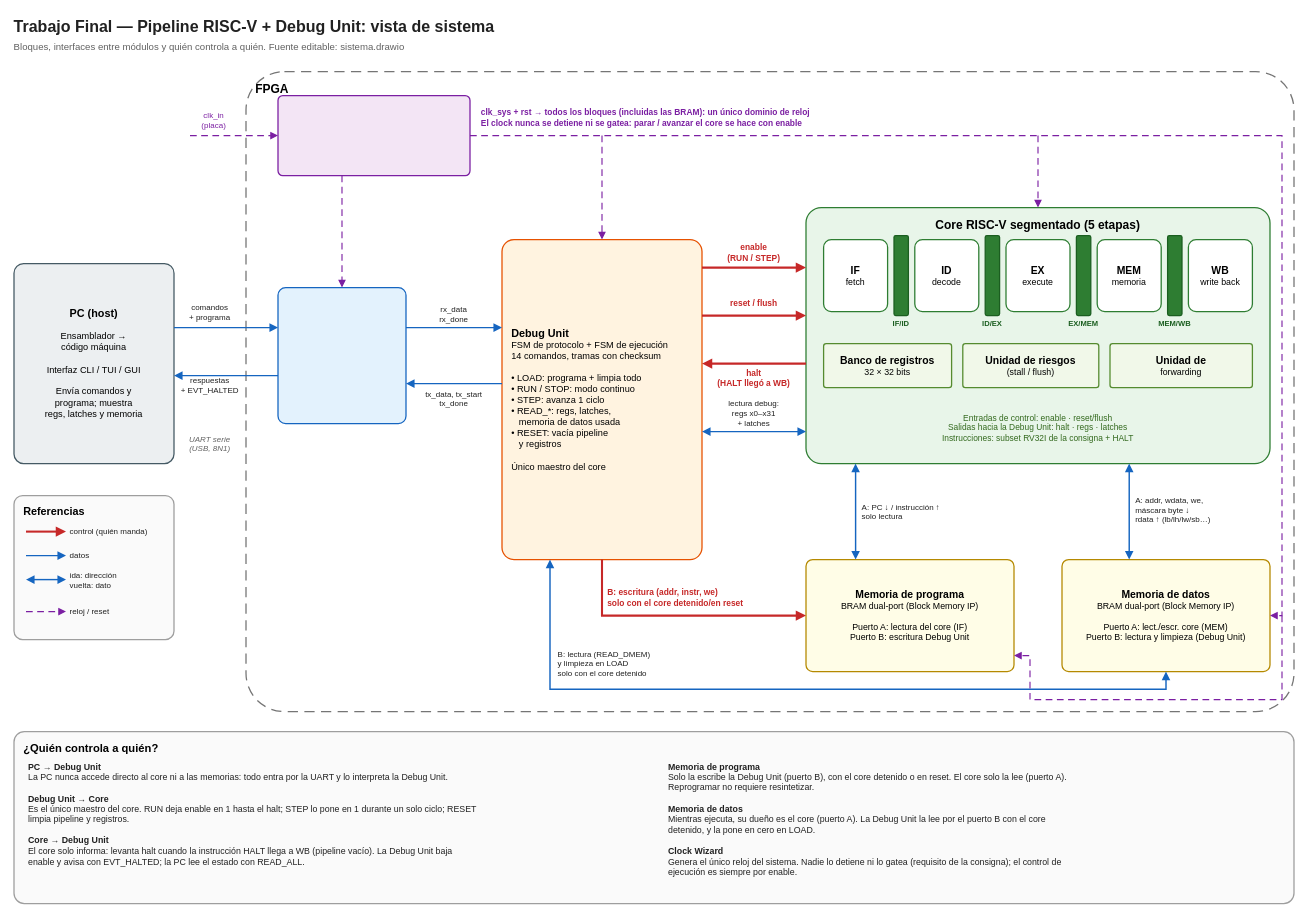
Image size: 1309x918. Some labels were removed from this diagram. The shapes that lost their labels are listed below. From the top down, each one's centre as x and y in pixels, then its label:
point 373,135: Clock Wizard (IP MMCM) clk_in → clk_sys locked → reset sincronizado
point 341,355: UART uart_rx uart_tx generador de baudios
